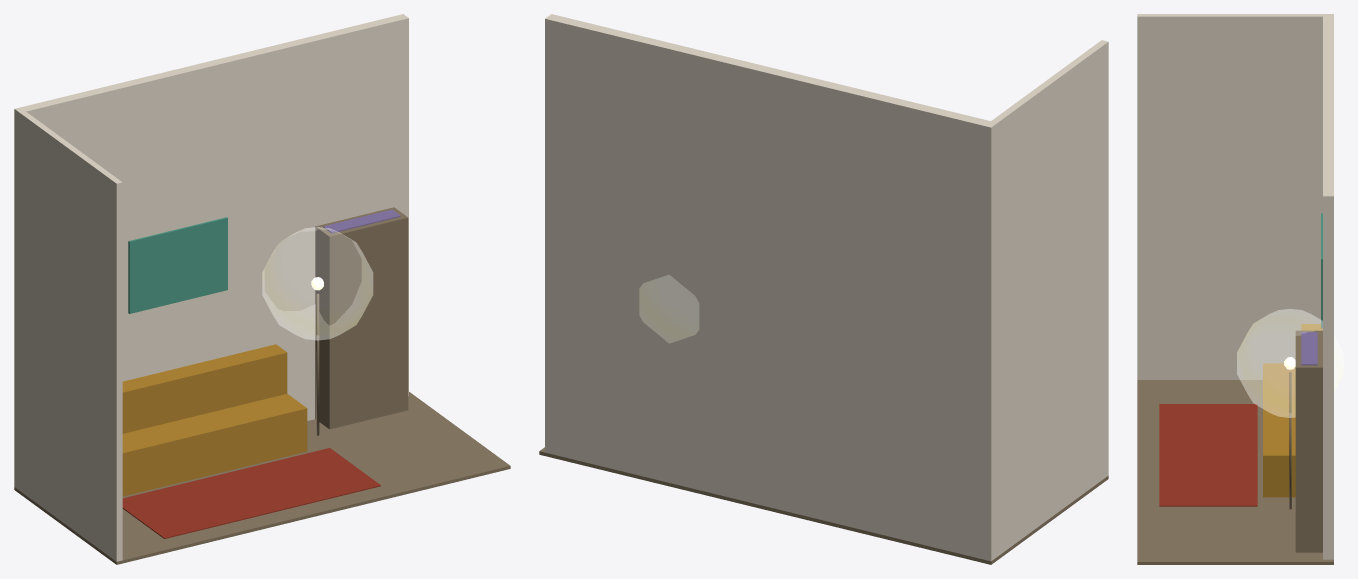
The model's file is city_proxy_home_living.glb.
The picture shows the model from 3 angles, left to right: view 1: azimuth 30°, elevation 25°; view 2: azimuth 150°, elevation 25°; view 3: azimuth 270°, elevation 25°; orthographic projection. The views are drawn at different scales.
Visible parts, largest first — view 1: CityProxyHomeLiving_Back, CityProxyHomeLiving_Side, CityProxyHomeLiving_Shelf, CityProxyHomeLiving_Floor, CityProxyHomeLiving_Sofa, CityProxyHomeLiving_Rug, CityProxyHomeLiving_Lamp_Halo, CityProxyHomeLiving_SofaBack, CityProxyHomeLiving_Picture, CityProxyHomeLiving_Books3; view 2: CityProxyHomeLiving_Back, CityProxyHomeLiving_Side, CityProxyHomeLiving_Lamp_Halo, CityProxyHomeLiving_Floor; view 3: CityProxyHomeLiving_Side, CityProxyHomeLiving_Floor, CityProxyHomeLiving_Rug, CityProxyHomeLiving_Lamp_Halo, CityProxyHomeLiving_Back, CityProxyHomeLiving_Shelf, CityProxyHomeLiving_Sofa, CityProxyHomeLiving_Books3, CityProxyHomeLiving_LampStem.
Boxes of the visible parts, x1,y1,x2,y2 form: CityProxyHomeLiving_Back: (20,14,408,420); CityProxyHomeLiving_Side: (14,107,122,561); CityProxyHomeLiving_Shelf: (315,207,408,429); CityProxyHomeLiving_Floor: (14,392,510,564); CityProxyHomeLiving_Sofa: (122,394,307,496); CityProxyHomeLiving_Rug: (122,448,380,538); CityProxyHomeLiving_Lamp_Halo: (262,227,372,340); CityProxyHomeLiving_SofaBack: (122,344,287,433); CityProxyHomeLiving_Picture: (128,217,227,313); CityProxyHomeLiving_Books3: (323,209,400,233); CityProxyHomeLiving_Back: (545,14,991,559); CityProxyHomeLiving_Side: (984,40,1108,561); CityProxyHomeLiving_Lamp_Halo: (640,275,698,342); CityProxyHomeLiving_Floor: (539,447,1108,564); CityProxyHomeLiving_Side: (1137,14,1333,379); CityProxyHomeLiving_Floor: (1137,380,1333,564); CityProxyHomeLiving_Rug: (1159,404,1257,506); CityProxyHomeLiving_Lamp_Halo: (1237,309,1343,417); CityProxyHomeLiving_Back: (1323,16,1333,559); CityProxyHomeLiving_Shelf: (1295,330,1322,552); CityProxyHomeLiving_Sofa: (1263,363,1295,497); CityProxyHomeLiving_Books3: (1301,332,1317,365); CityProxyHomeLiving_LampStem: (1289,372,1291,509).
Bounding box in the file's own units: 4 × 3.7 × 1.89.
